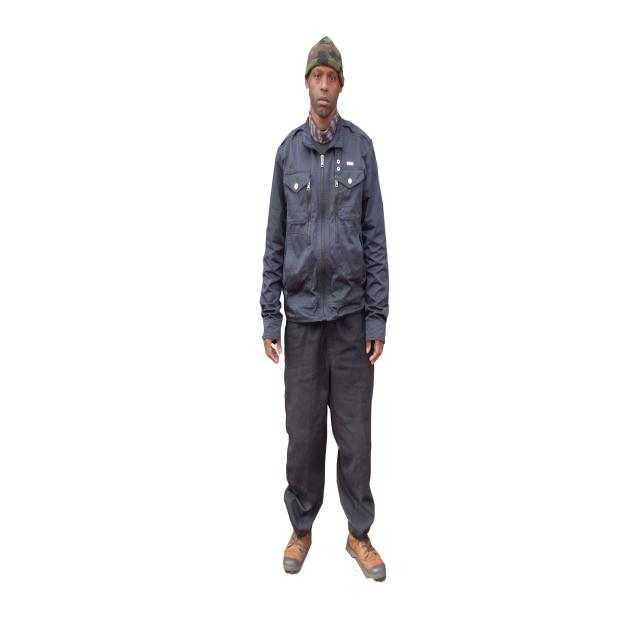jovem: (248, 27, 413, 602)
